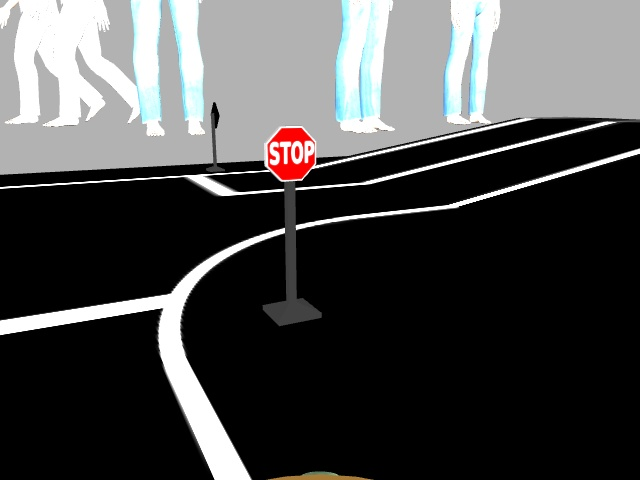Stop: (264, 125, 314, 181)
